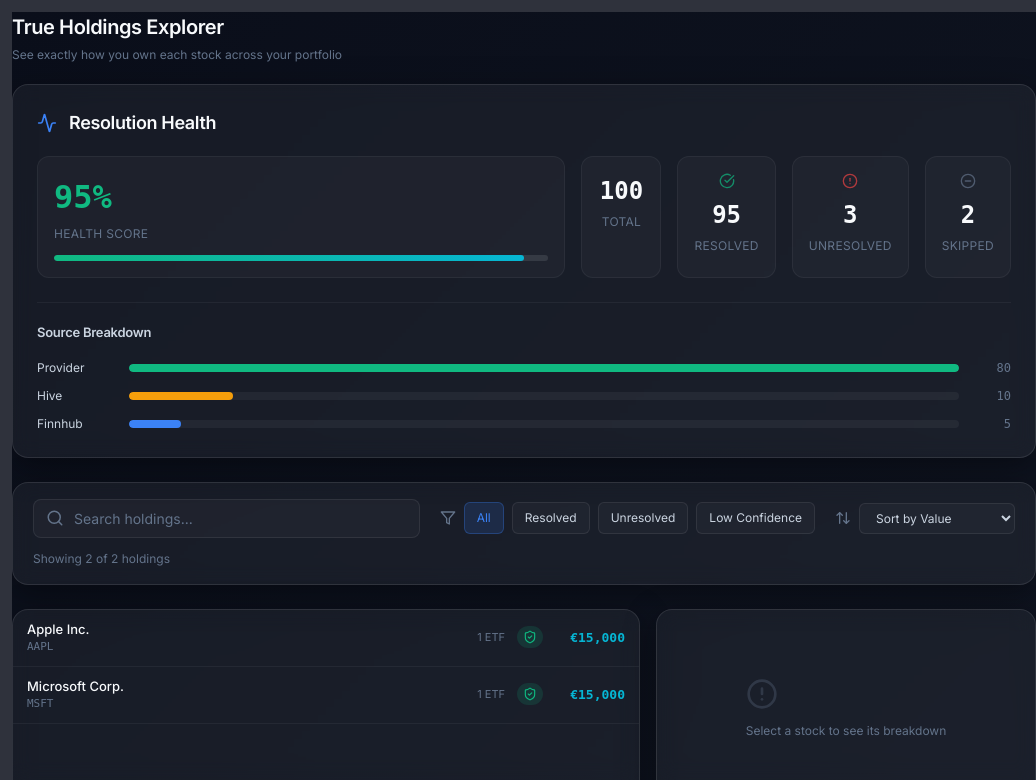
Test: HoldingsView › filters holdings by search query
Expected: the text "Apple Inc." is shown, [27,620,90,636]
In the field with placeholder "Search holdings...": [240, 518] box [74,508,407,528], type "Microsoft"
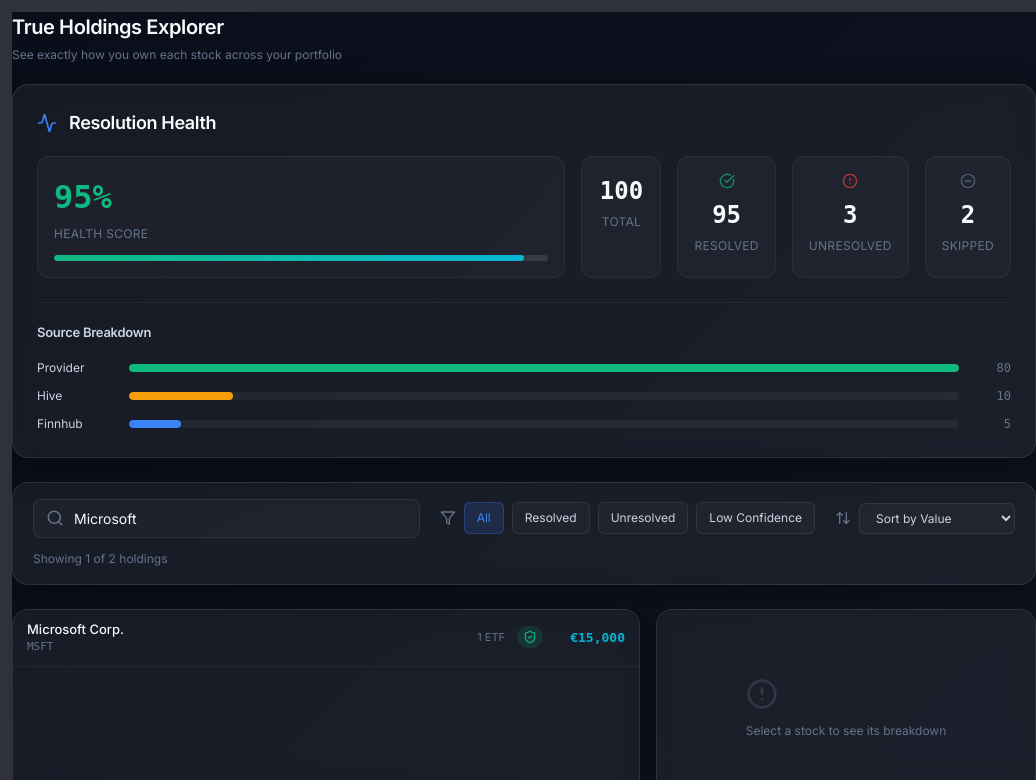
Expected: the text "Microsoft Corp." is shown, [27,620,124,636]
Expected: the text "Apple Inc." is gone
